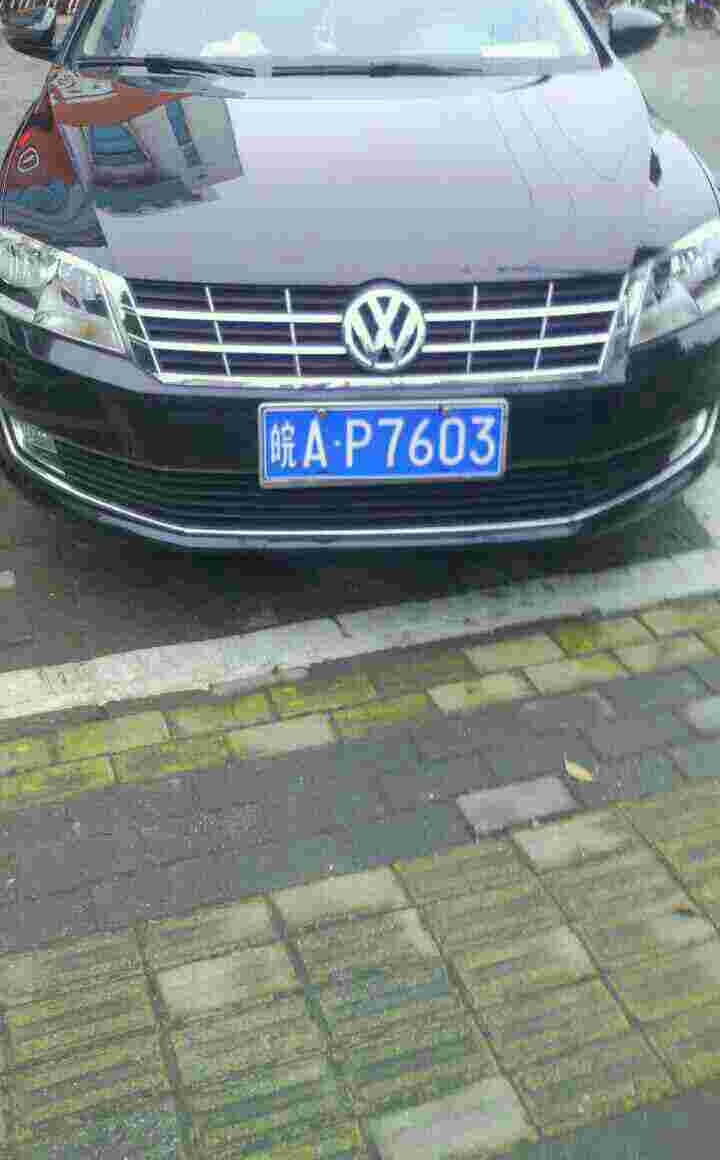license_plate: (273, 403, 503, 485)
